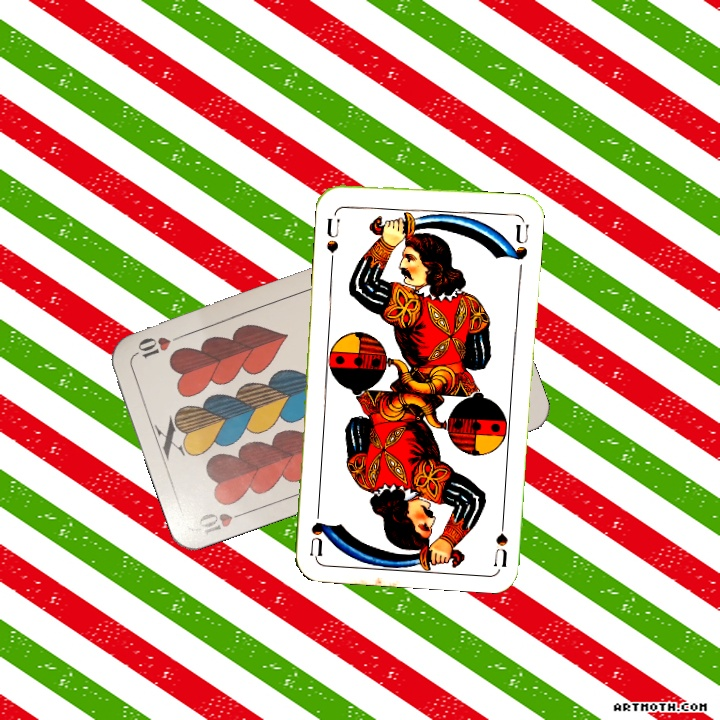H10: (194, 506, 252, 538)
SU: (489, 508, 510, 567), (322, 213, 342, 266)
